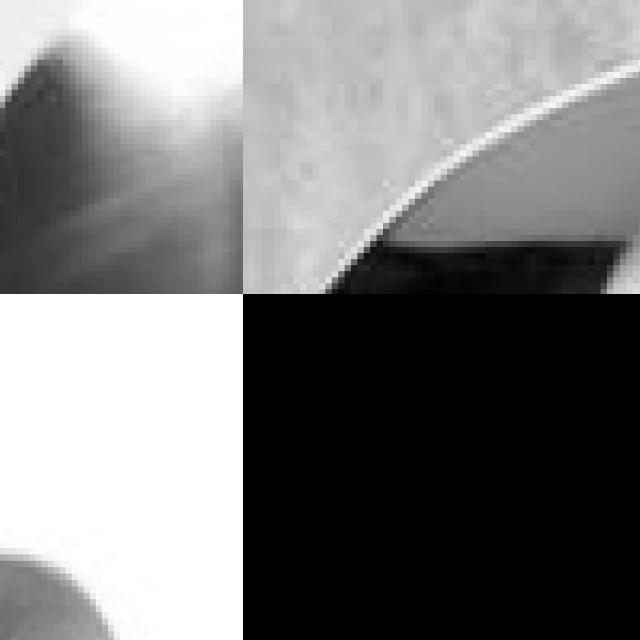spoons: (243, 0, 640, 294), (0, 0, 243, 294)
